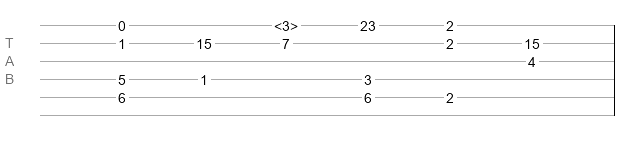0: (118, 18, 126, 28)
1: (118, 36, 126, 46), (200, 72, 208, 82)
15: (196, 36, 212, 46), (524, 36, 540, 46)
2: (446, 90, 454, 100), (446, 36, 454, 46), (446, 18, 454, 28)
23: (360, 18, 376, 28)
3: (364, 72, 372, 82)
4: (528, 54, 536, 64)
5: (118, 72, 126, 82)
6: (118, 90, 126, 100), (364, 90, 372, 100)
7: (282, 36, 290, 46)
harmonic: (274, 18, 298, 28)
